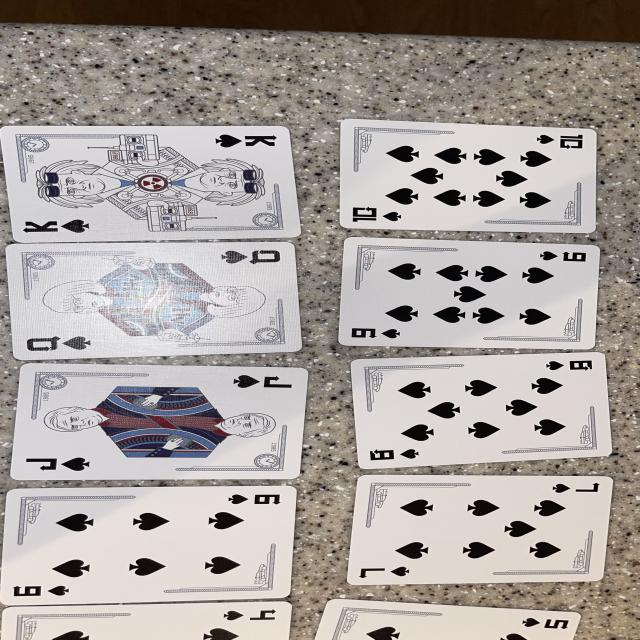10 of spades: (340, 119, 598, 232)
4 of spades: (0, 601, 291, 640)
5 of spades: (316, 599, 580, 640)
6 of spades: (2, 486, 296, 605)
7 of spades: (347, 475, 613, 585)
8 of spades: (351, 352, 611, 469)
9 of spades: (340, 238, 600, 350)
Jack of spades: (11, 364, 307, 480)
King of spades: (2, 126, 298, 242)
Queen of spades: (7, 242, 302, 360)
